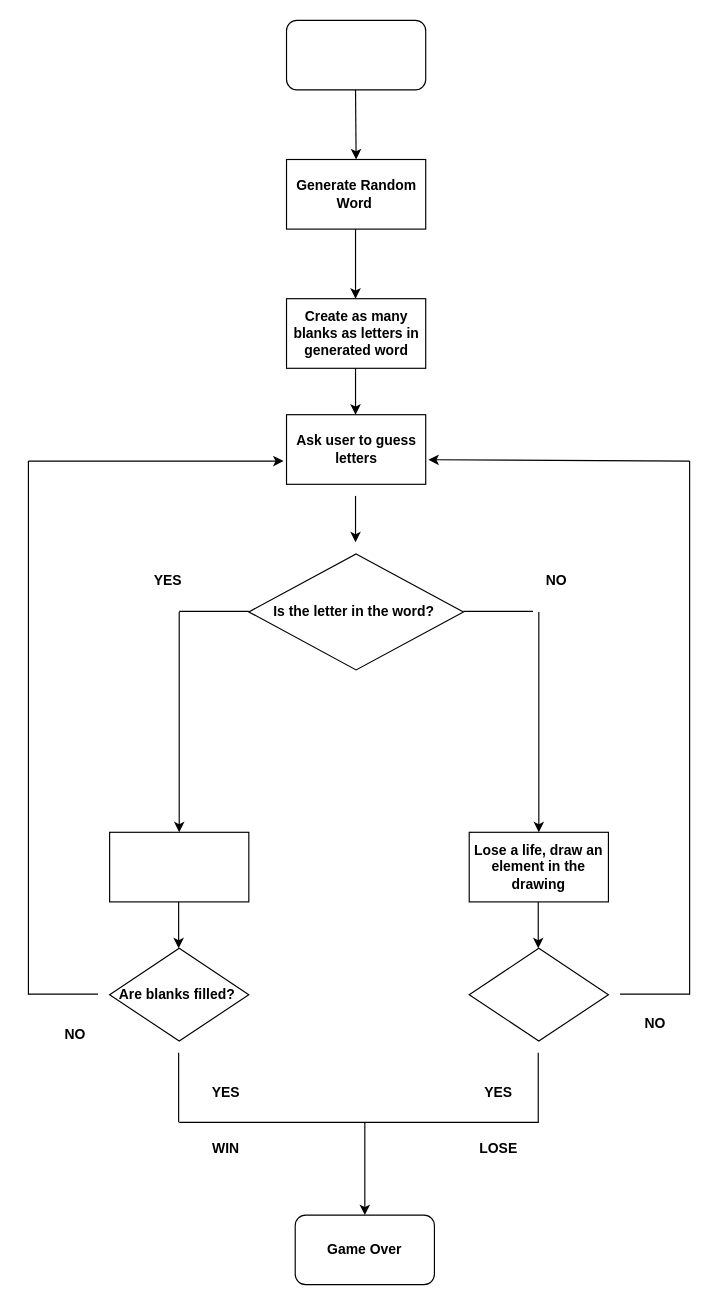
This 719x1305 diagram has some shape labels left out. The centre of each missing label's shape, as x and y in pixels:
Are lives finished?: point 538,994
Replace blank with letter: point 178,866
START: point 355,54
